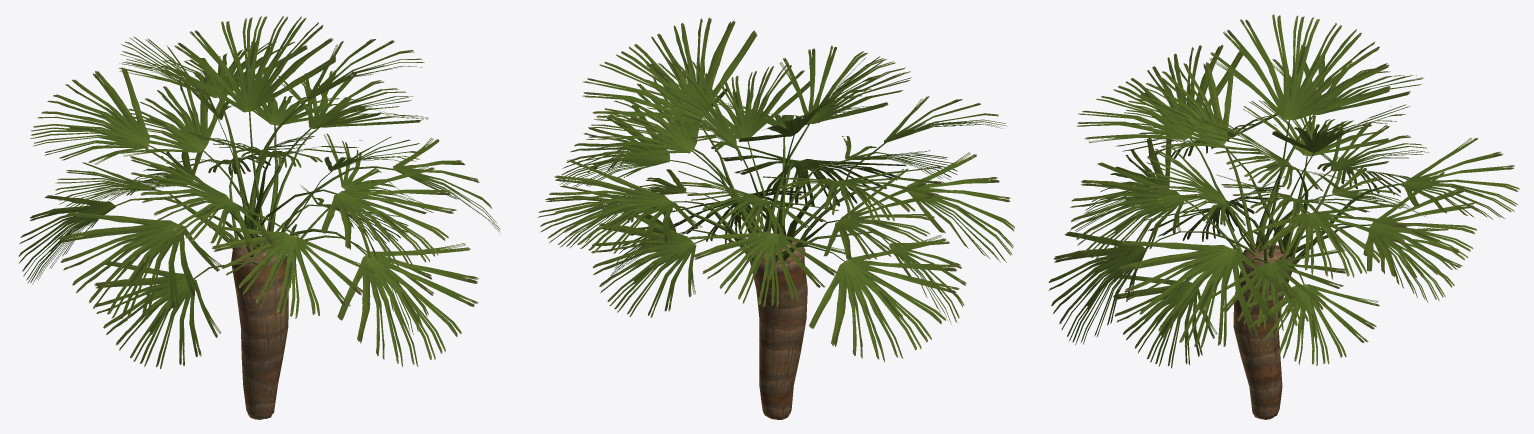
Rendered from NaturePlant06_1.FBX.
The picture shows the model from 3 angles, left to right: view 1: azimuth 30°, elevation 25°; view 2: azimuth 150°, elevation 25°; view 3: azimuth 270°, elevation 25°; orthographic projection. The views are drawn at different scales.
Parts seen in each view (by area): view 1: NaturePlant06_1; view 2: NaturePlant06_1; view 3: NaturePlant06_1.
Boxes of the visible parts, box(x1,y1,x2,y2) form: NaturePlant06_1: box(19, 16, 500, 419); NaturePlant06_1: box(537, 17, 1014, 419); NaturePlant06_1: box(1048, 14, 1519, 419).
Size of what is drawn, in the model's own units: 2.27 by 1.89 by 2.29.
